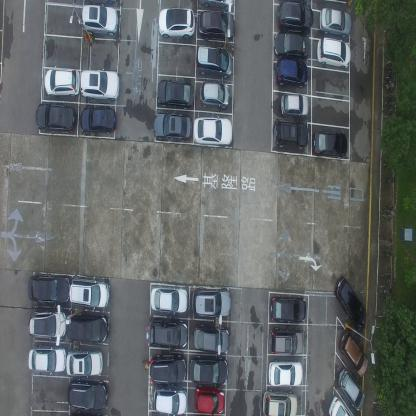car: (333, 273, 368, 330), (339, 326, 368, 378), (70, 276, 110, 310), (67, 377, 108, 410), (337, 364, 365, 412), (35, 103, 76, 135), (80, 4, 118, 38), (190, 353, 228, 387), (80, 68, 120, 100), (148, 316, 188, 348), (192, 285, 232, 317), (67, 314, 109, 344), (196, 44, 233, 78), (193, 115, 232, 147), (27, 274, 70, 303), (157, 78, 194, 110), (149, 352, 186, 384), (193, 322, 230, 354), (150, 284, 188, 315), (27, 309, 67, 338), (312, 128, 348, 160), (159, 7, 195, 39), (198, 10, 235, 41), (153, 112, 191, 142), (317, 37, 351, 70), (66, 348, 104, 377), (269, 324, 304, 355), (44, 67, 80, 97), (276, 2, 314, 30), (319, 6, 352, 38), (268, 357, 303, 387), (273, 119, 309, 148), (273, 30, 309, 59), (80, 105, 116, 134), (28, 346, 66, 373), (271, 293, 306, 322), (275, 57, 308, 87), (262, 388, 298, 415), (154, 386, 187, 415), (194, 386, 225, 416), (199, 79, 229, 109), (280, 93, 309, 118), (328, 394, 352, 415), (198, 0, 234, 11)
